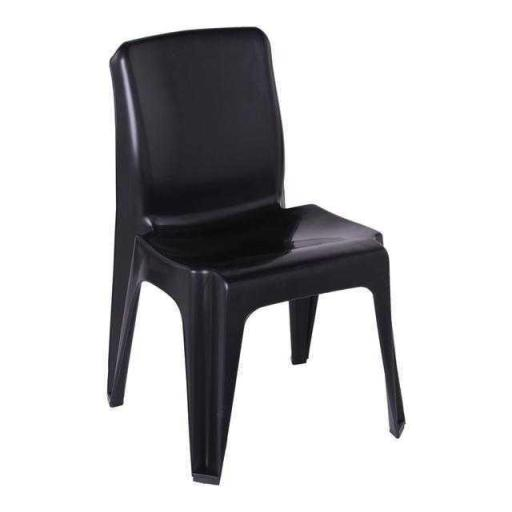chair: (90, 16, 410, 488)
